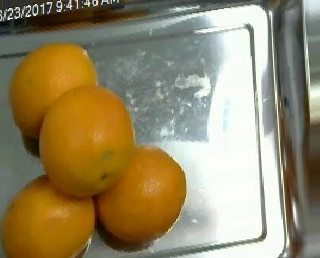Orange: (39, 85, 134, 197), (96, 143, 187, 242), (9, 41, 99, 138), (1, 173, 94, 257)
